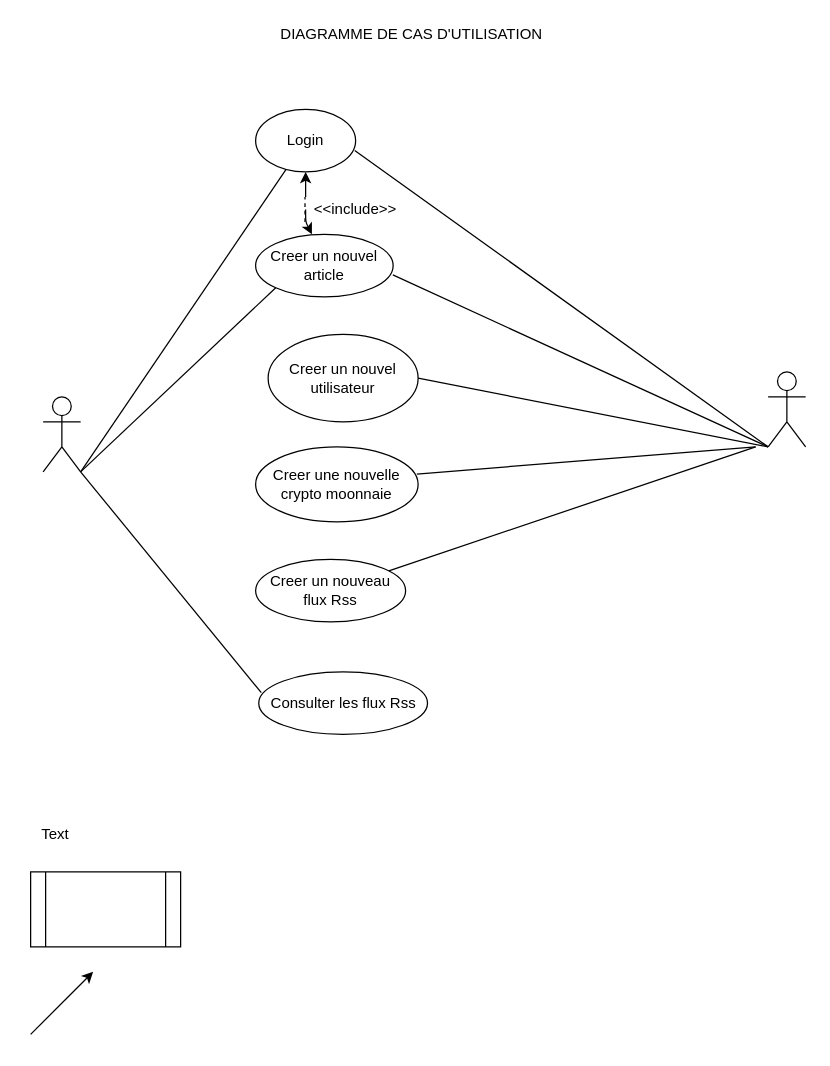
The diagram is 830 pixels wide and 1066 high, and some of its shapes have lost their labels. The shapes that lost their labels are listed below. From the top down, each one's centre as x and y in pixels, then its label:
(786,409): Admin
(61,434): User
